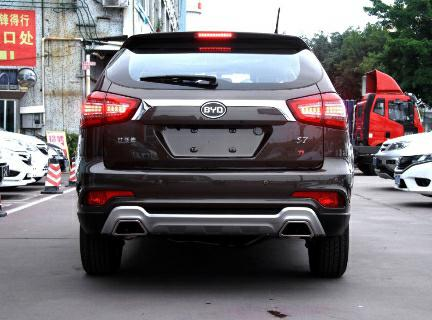比亚迪-S7: (75, 28, 356, 282)
